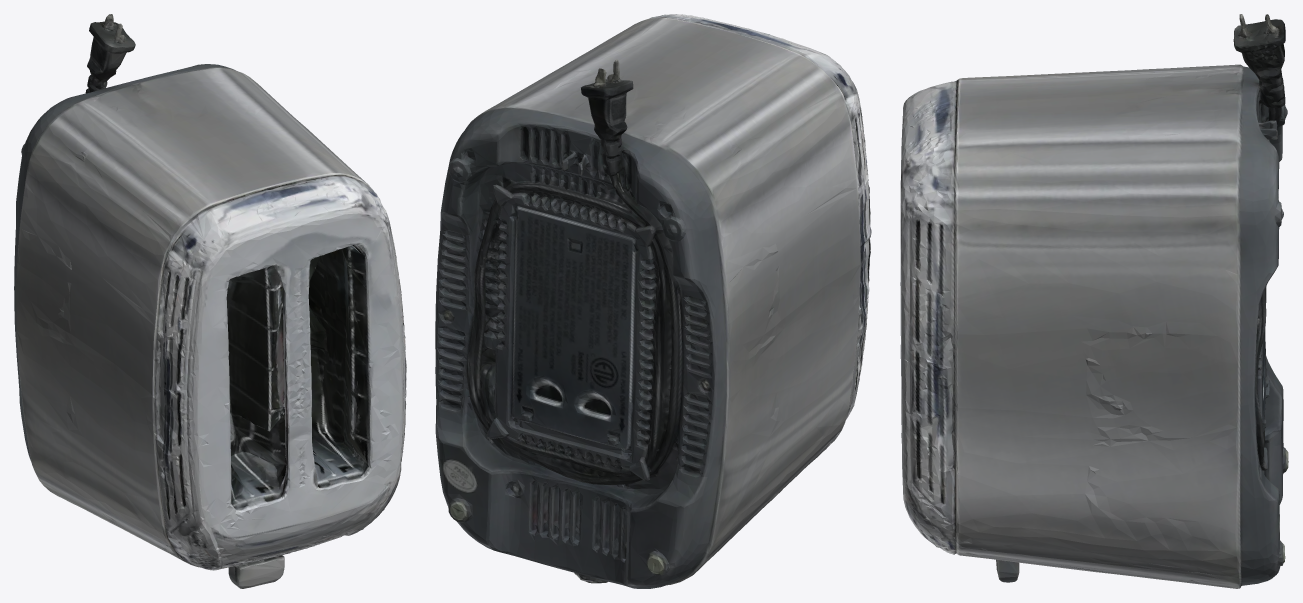
Rendered from toaster.glb.
The picture shows the model from 3 angles, left to right: view 1: azimuth 30°, elevation 25°; view 2: azimuth 150°, elevation 25°; view 3: azimuth 270°, elevation 25°; orthographic projection. The views are drawn at different scales.
Parts seen in each view (by area): view 1: geometry_0; view 2: geometry_0; view 3: geometry_0.
Boxes of the visible parts, x1,y1,x2,y2 form: geometry_0: [14, 14, 406, 588]; geometry_0: [435, 14, 871, 588]; geometry_0: [900, 14, 1288, 588].
Size of the model in its own units: 0.5682 by 1 by 0.6459.
1 material, 1 textured.
